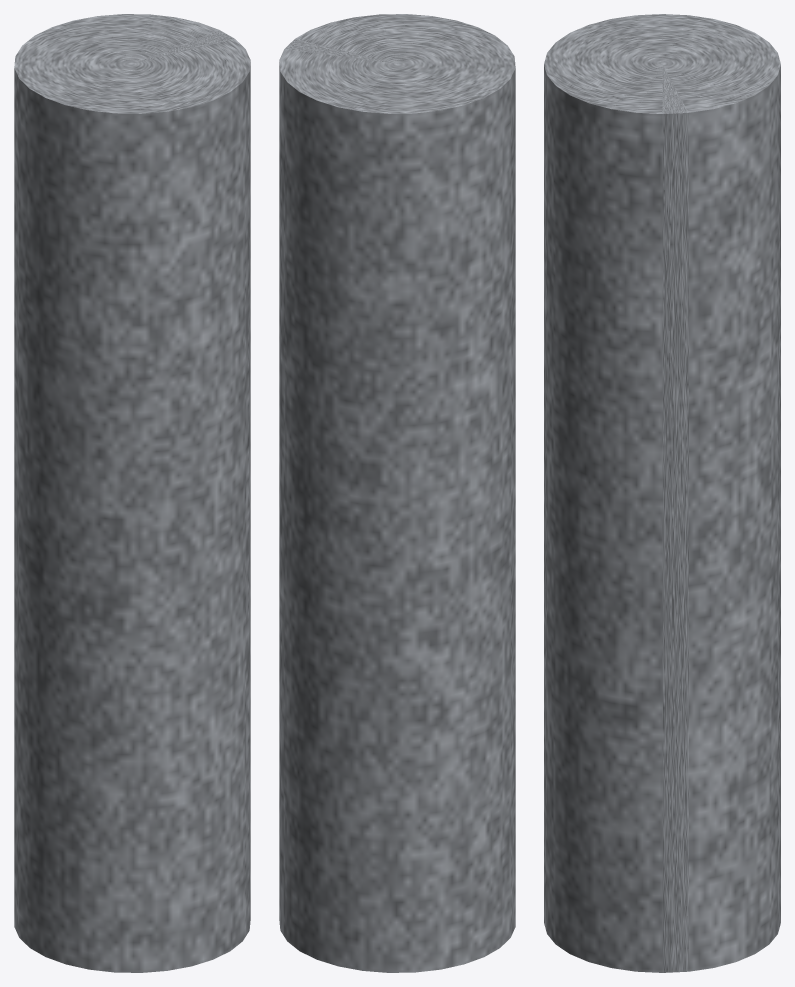
File: axle_short.obj
3 views of the same model, side by side, from view 1: azimuth 30°, elevation 25°; view 2: azimuth 150°, elevation 25°; view 3: azimuth 270°, elevation 25° (orthographic).
Bounding box in the file's own units: 0.03 × 0.12 × 0.03.
Materials: 1 (1 with a texture image).
